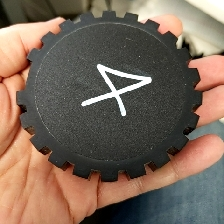gear: (14, 9, 204, 184)
missing: (15, 46, 40, 108)
